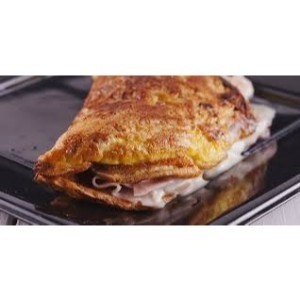cheese_brain food: (68, 114, 270, 197)
